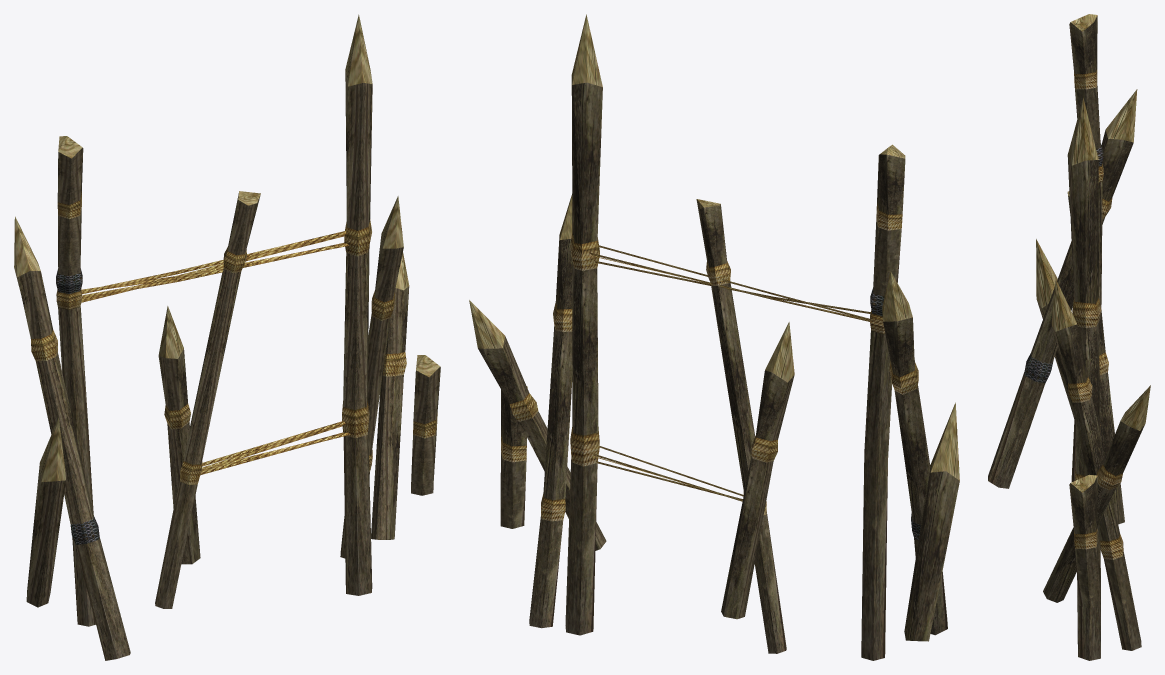
The model's file is camp_manticore_gate02.fbx.
The picture shows the model from 3 angles, left to right: view 1: azimuth 30°, elevation 25°; view 2: azimuth 150°, elevation 25°; view 3: azimuth 270°, elevation 25°; orthographic projection. The views are drawn at different scales.
Parts seen in each view (by area): view 1: camp_manticore_gate02; view 2: camp_manticore_gate02; view 3: camp_manticore_gate02.
Boxes of the visible parts, bbox=[...] form: camp_manticore_gate02: bbox=[14, 14, 440, 660]; camp_manticore_gate02: bbox=[469, 14, 959, 660]; camp_manticore_gate02: bbox=[988, 14, 1150, 660].
Size of the model in its own units: 11.21 by 14.92 by 3.96.
